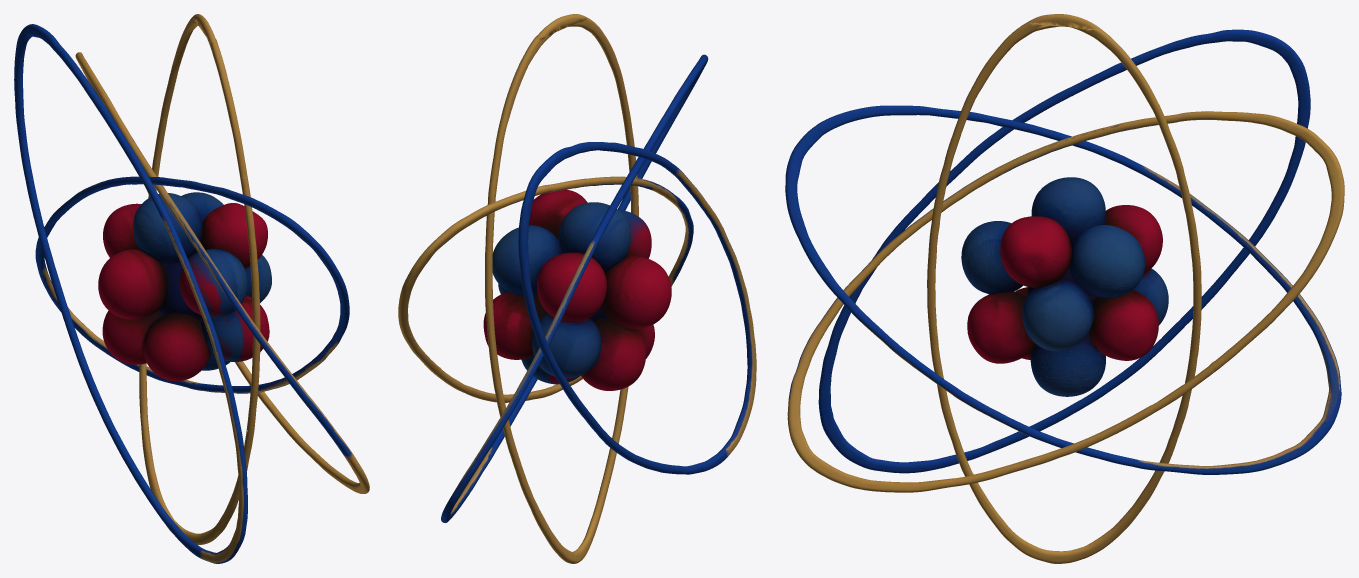
Rendered from atom_opt.glb.
3 views of the same model, side by side, from view 1: azimuth 30°, elevation 25°; view 2: azimuth 150°, elevation 25°; view 3: azimuth 270°, elevation 25° (orthographic). The views are drawn at different scales.
Visible parts, largest first — view 1: tripo_node_d230f014-f8ac-4f43-ae66-123e8aab3b49; view 2: tripo_node_d230f014-f8ac-4f43-ae66-123e8aab3b49; view 3: tripo_node_d230f014-f8ac-4f43-ae66-123e8aab3b49.
Boxes of the visible parts, x1,y1,x2,y2 form: tripo_node_d230f014-f8ac-4f43-ae66-123e8aab3b49: (14,14,369,563); tripo_node_d230f014-f8ac-4f43-ae66-123e8aab3b49: (398,14,756,563); tripo_node_d230f014-f8ac-4f43-ae66-123e8aab3b49: (785,14,1344,563).
Bounding box in the file's own units: 0.3182 × 0.9799 × 0.8887.
1 material, 1 textured.
